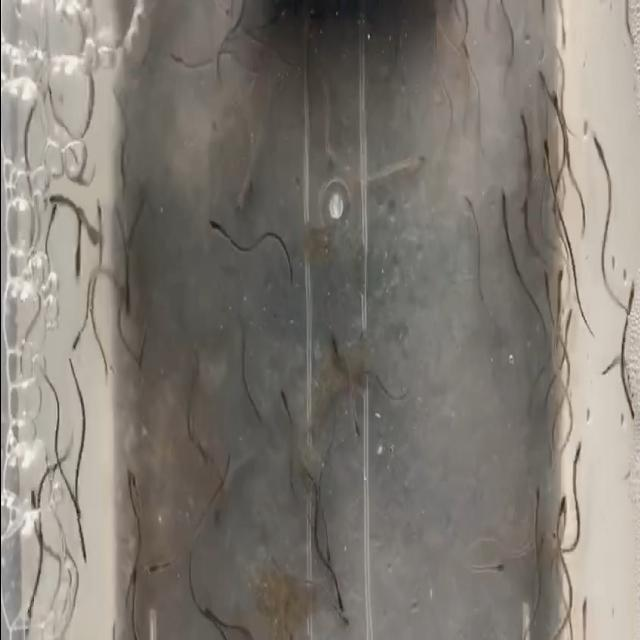active_glass_eel: (128, 446, 142, 502), (16, 597, 34, 640), (141, 555, 166, 583), (66, 250, 82, 292), (592, 126, 608, 166), (624, 284, 638, 329), (202, 602, 220, 636), (544, 520, 558, 562), (89, 194, 105, 230), (562, 301, 576, 341), (541, 132, 553, 178), (22, 484, 38, 518), (232, 187, 248, 221), (124, 469, 136, 514), (66, 327, 84, 357), (541, 268, 554, 308), (335, 600, 351, 632), (205, 212, 222, 242), (276, 386, 290, 422), (572, 430, 582, 480), (350, 406, 362, 446), (558, 492, 568, 538), (128, 563, 140, 601), (518, 190, 532, 222), (513, 103, 527, 134), (550, 89, 562, 125), (68, 491, 80, 527), (488, 552, 504, 578), (531, 68, 547, 94), (579, 595, 591, 629), (496, 186, 508, 220), (77, 534, 89, 568), (167, 46, 185, 68), (528, 476, 540, 508), (463, 190, 475, 220), (554, 262, 564, 296), (333, 587, 345, 615), (462, 40, 473, 70)
